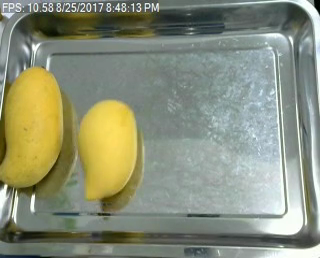Mango: (0, 58, 64, 194), (69, 95, 145, 206)
